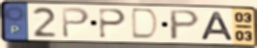2: (31, 6, 59, 39)
A: (198, 11, 236, 42)
D: (130, 7, 161, 42)
P: (168, 9, 202, 42), (98, 7, 129, 40), (61, 6, 92, 39)
